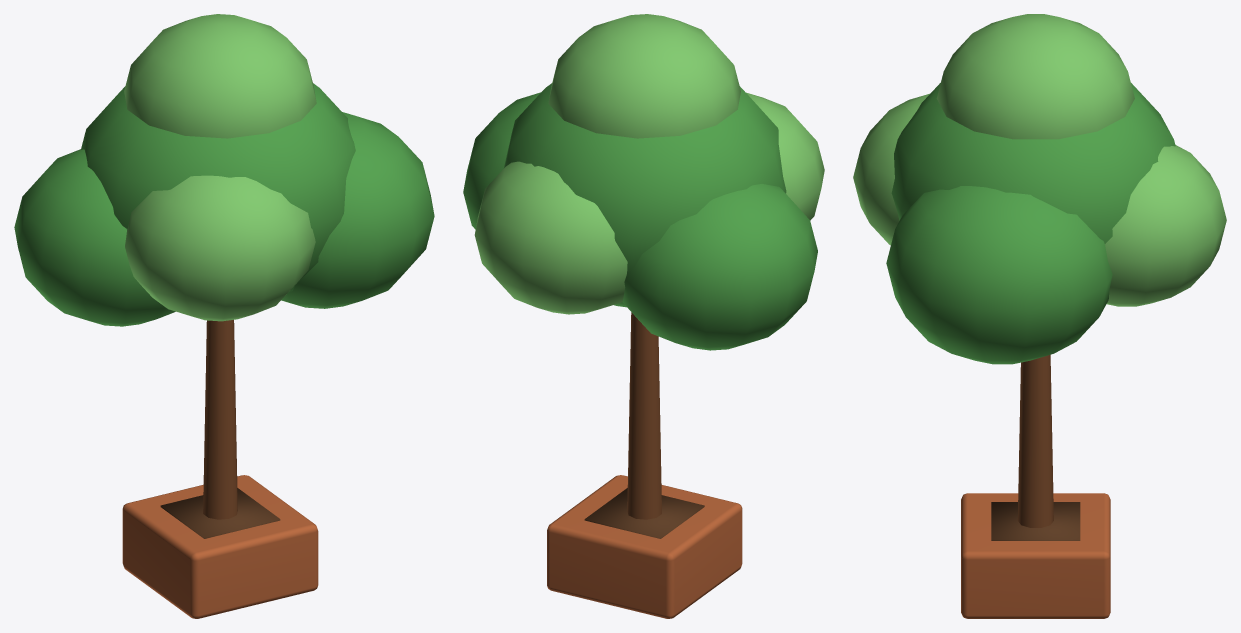
The model's file is tree.glb.
3 views of the same model, side by side, from view 1: azimuth 30°, elevation 25°; view 2: azimuth 150°, elevation 25°; view 3: azimuth 270°, elevation 25° (orthographic).
Parts seen in each view (by area): view 1: Blob.004, Blob, Blob.005, Planter, Blob.001, Blob.002, Trunk, Soil; view 2: Blob.001, Blob, Blob.005, Planter, Blob.003, Trunk, Blob.004, Blob.002, Soil; view 3: Blob.002, Blob, Blob.005, Planter, Blob.003, Trunk, Blob.004, Soil.
Boxes of the visible parts, x1,y1,x2,y2 form: Blob.004: (125,175,315,321); Blob: (81,83,355,292); Blob.005: (124,14,316,138); Planter: (122,475,318,618); Blob.001: (14,149,175,326); Blob.002: (281,112,434,308); Trunk: (203,320,237,519); Soil: (160,488,280,538); Blob.001: (622,184,817,350); Blob: (503,83,786,307); Blob.005: (548,14,740,138); Planter: (547,475,742,618); Blob.003: (474,161,627,314); Trunk: (627,312,661,519); Blob.004: (746,92,824,220); Blob.002: (463,92,540,229); Soil: (584,488,704,538); Blob.002: (886,186,1112,364); Blob: (891,83,1175,243); Blob.005: (936,14,1134,139); Planter: (961,493,1110,618); Blob.003: (1105,145,1226,306); Trunk: (1017,355,1053,527); Blob.004: (853,93,929,245); Soil: (991,502,1080,540).
Bounding box in the file's own units: 2.52 × 3.76 × 2.25.
